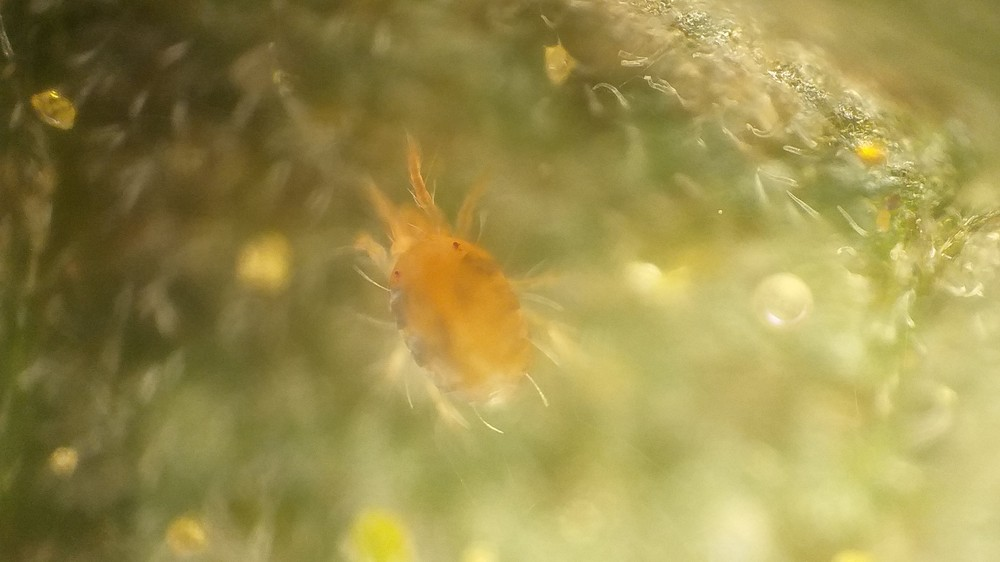Aracnido Rojo: (292, 138, 617, 447)
